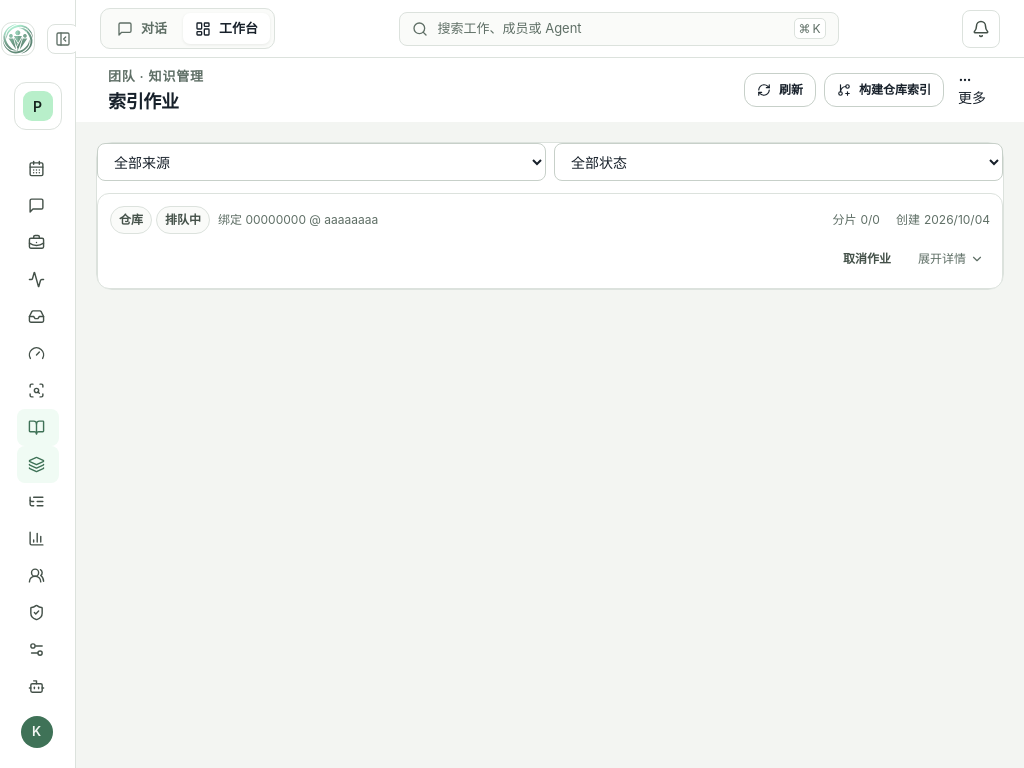
Scenario: KnowledgeIndexPage › keeps the rebuild command unissued when the confirm dialog is cancelled (R31)
Click the button with aria-label "更多索引动作": [972, 90] box [952, 72, 992, 108]
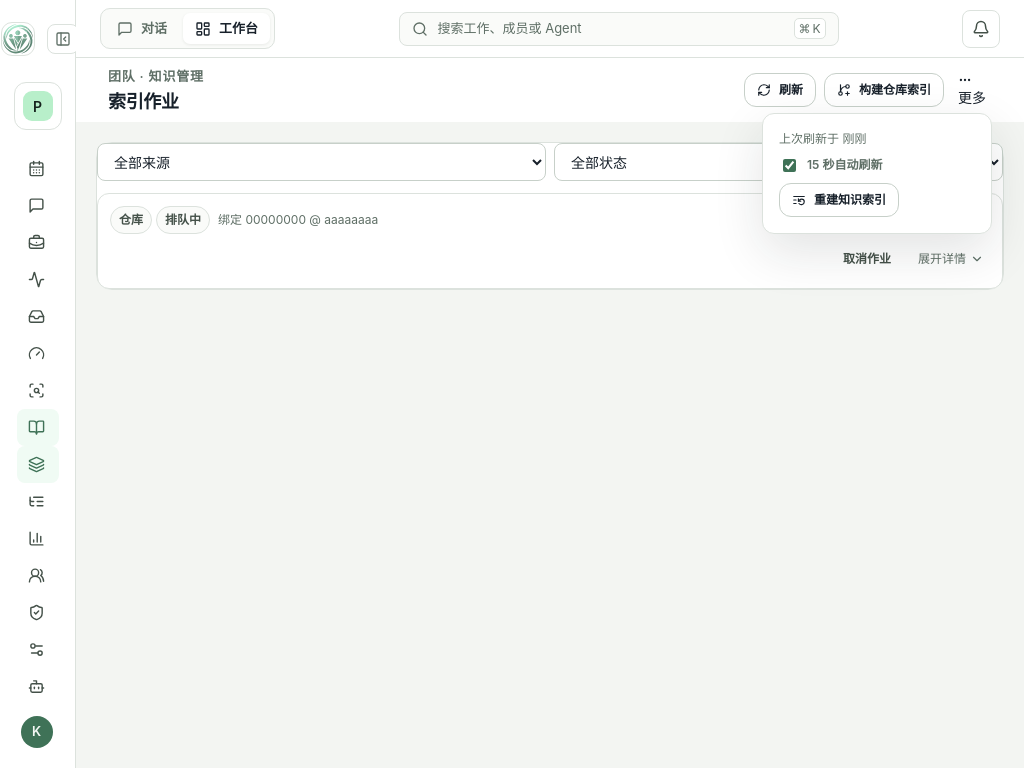
Click the button "重建知识索引": [839, 200] box [779, 182, 899, 216]
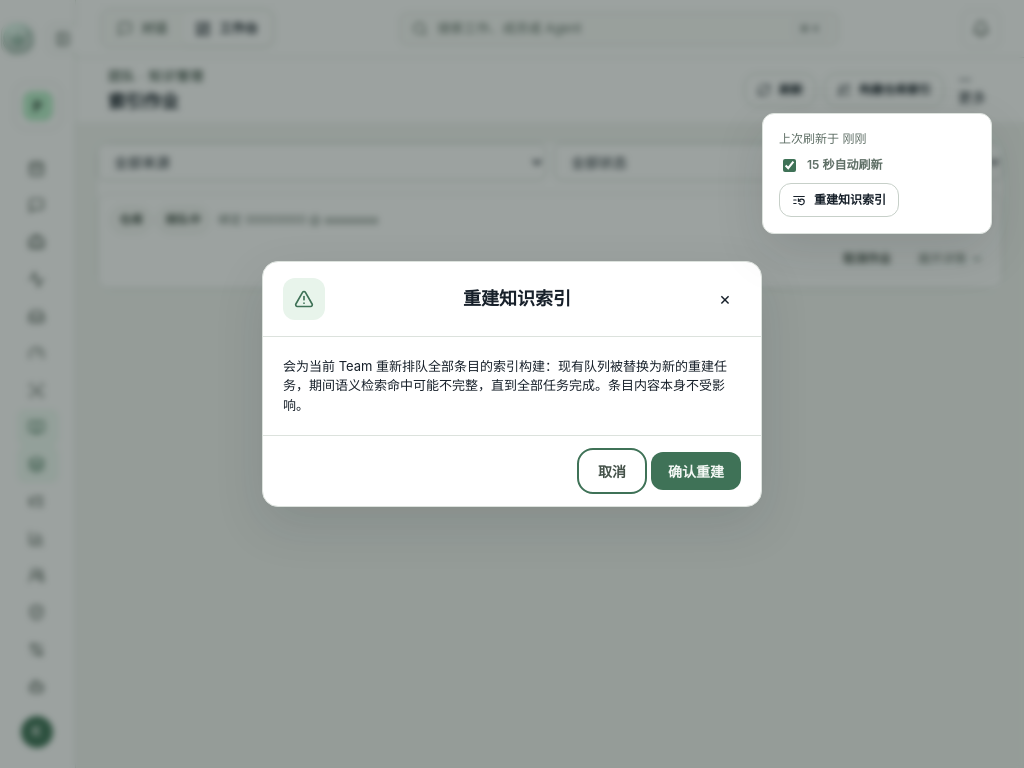
Check: the text "现有队列被替换为新的重建任务" is shown, box [283, 358, 727, 413]
Click the button "取消": [612, 471] box [581, 452, 643, 490]
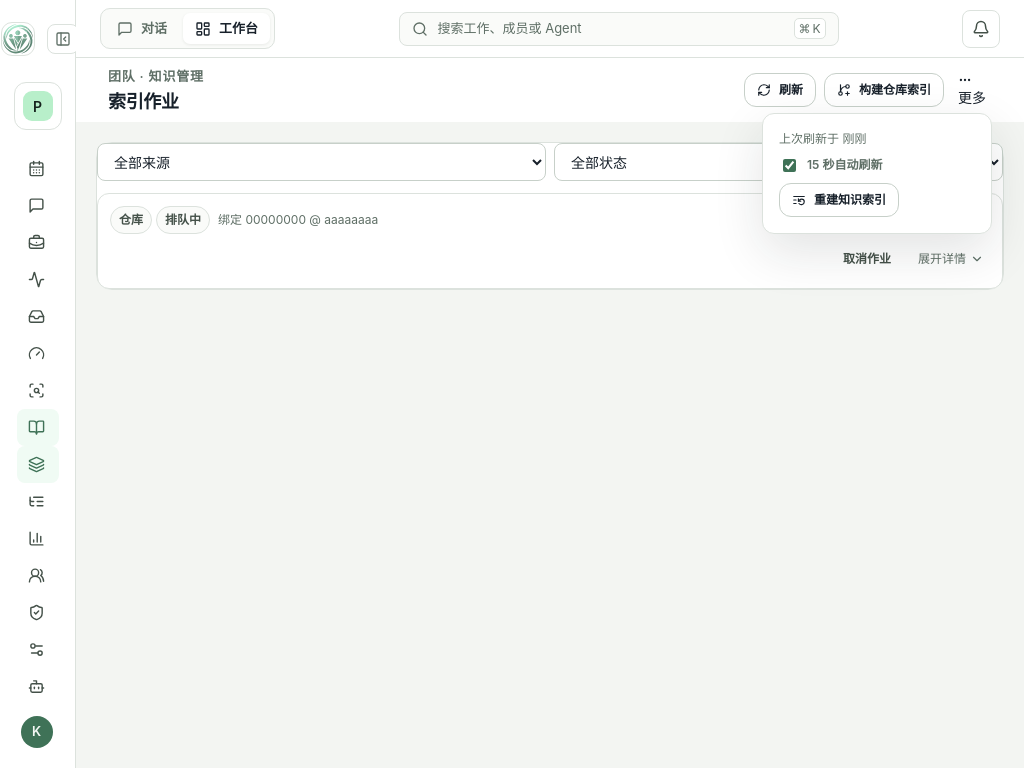
Check: the text "现有队列被替换为新的重建任务" is gone
